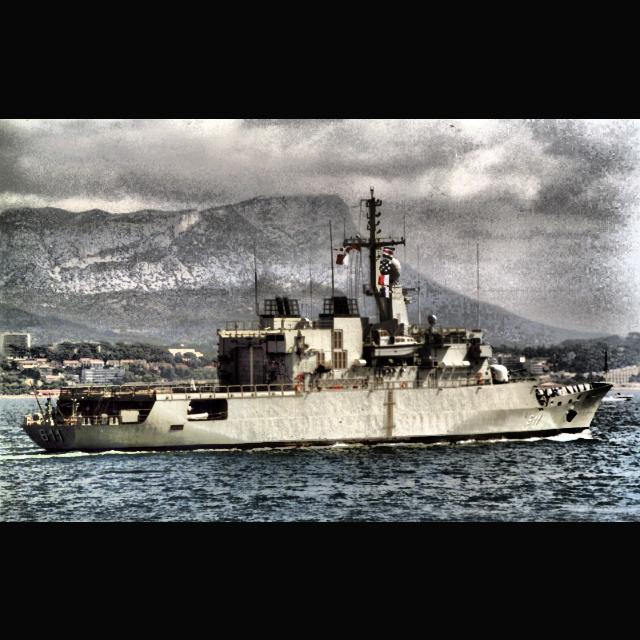combat_vessel: (22, 184, 616, 452)
